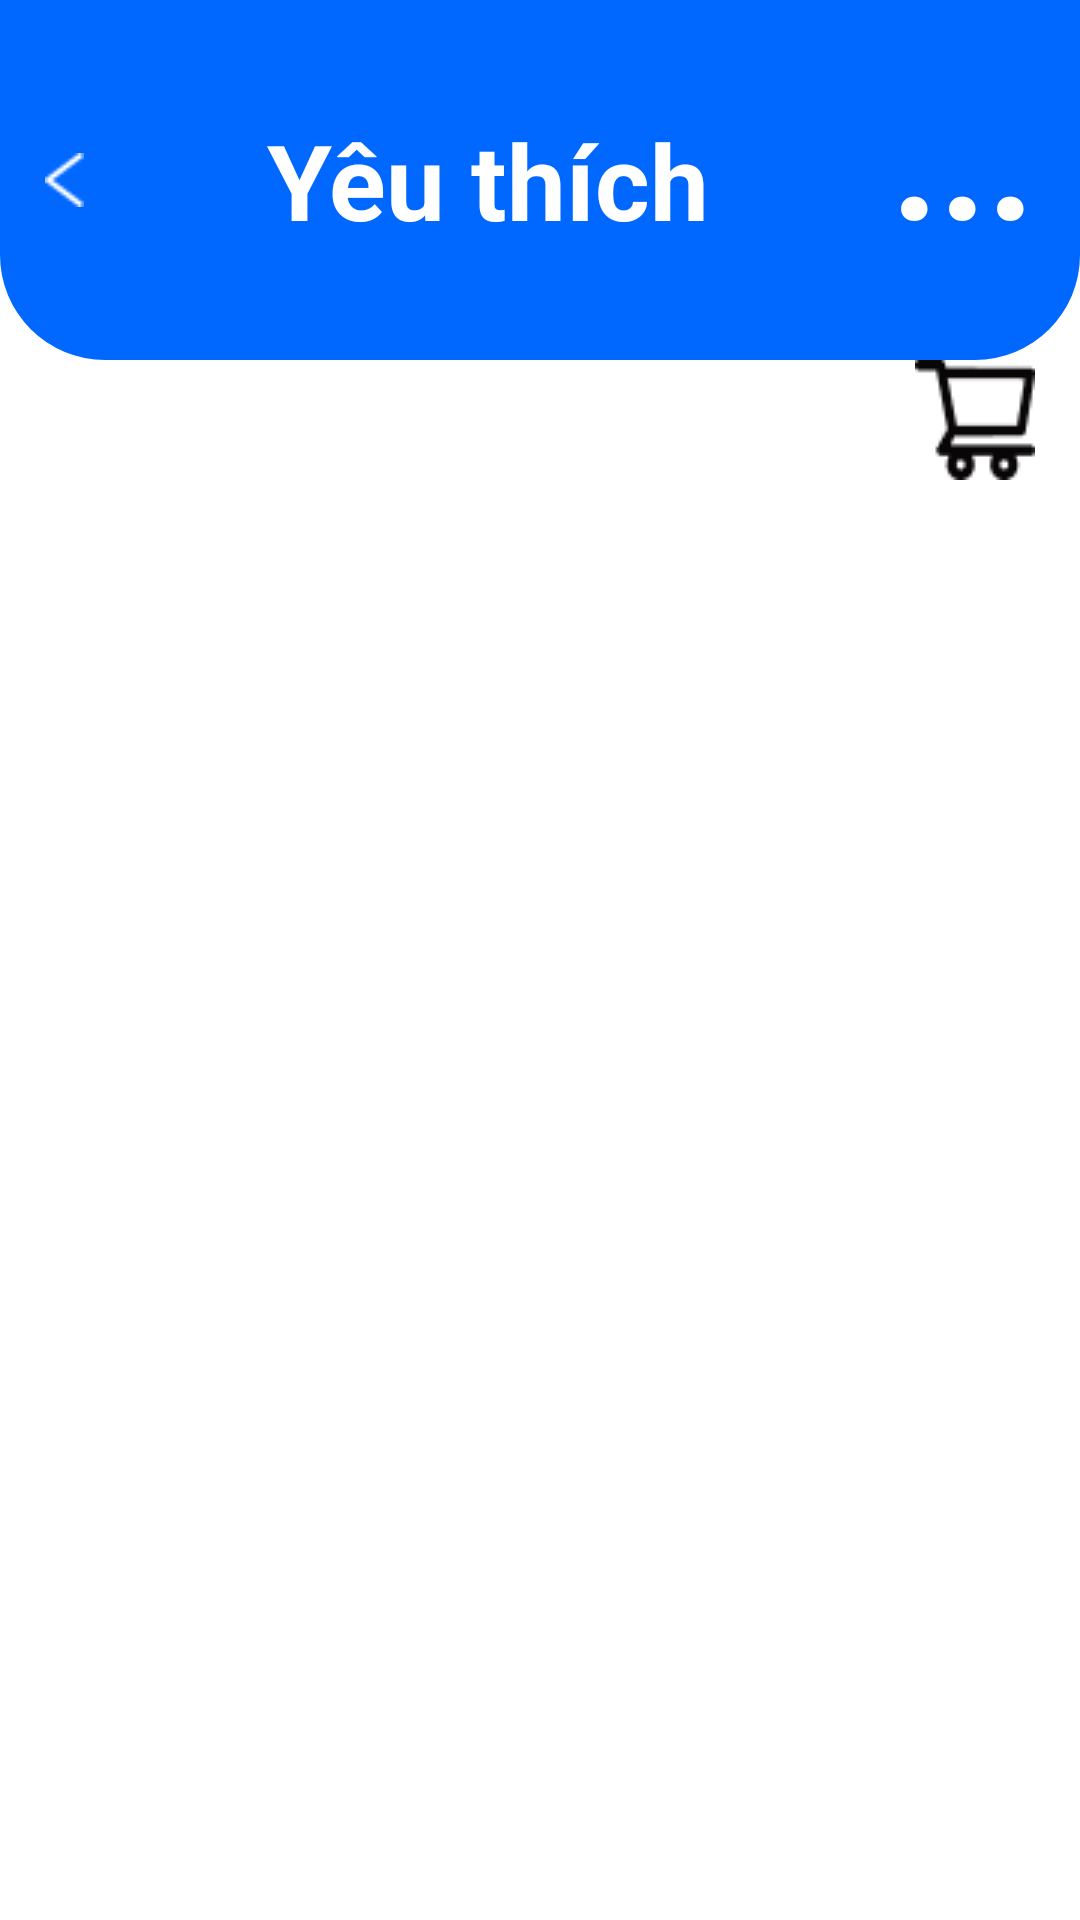

Icon bounding boxes for this 1080x1920 phone screenshot, format BBox(x1, y1, x2, y2):
giohang: BBox(915, 360, 1035, 480)
